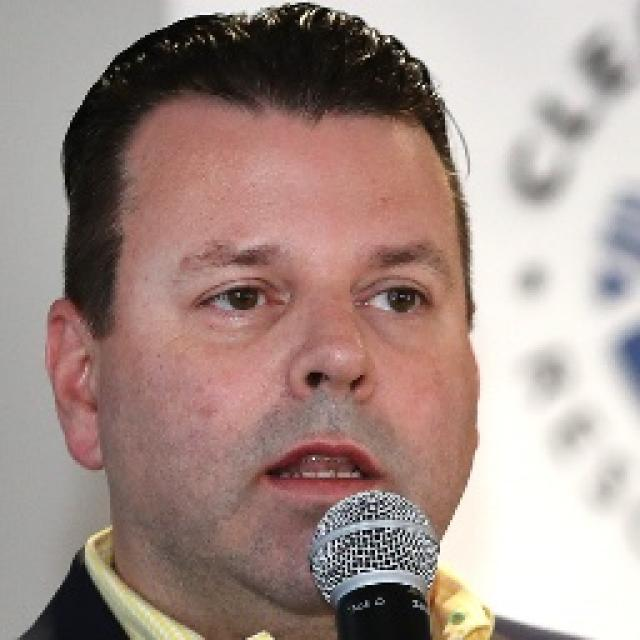earlobe: (63, 413, 106, 473)
eye: (201, 282, 284, 313), (360, 284, 428, 314)
nose: (44, 300, 108, 473), (291, 375, 372, 437)
